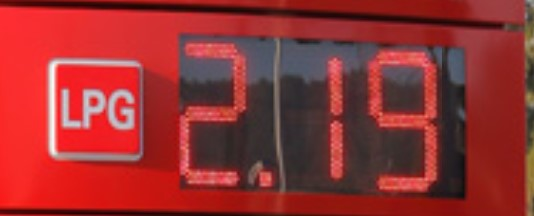digits: (357, 43, 446, 194), (172, 30, 256, 187), (285, 33, 350, 191)
